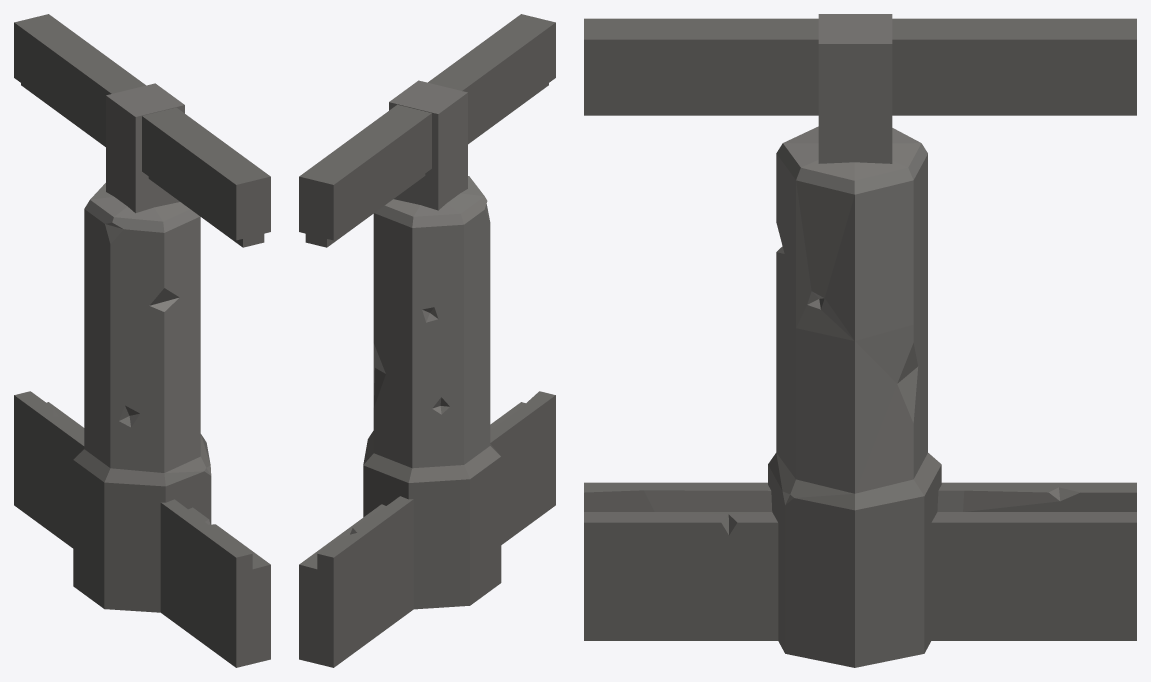
Rendered from SM_Bld_Tunnel_Straight_Wall_01.fbx.
3 views of the same model, side by side, from view 1: azimuth 30°, elevation 25°; view 2: azimuth 150°, elevation 25°; view 3: azimuth 270°, elevation 25° (orthographic). The views are drawn at different scales.
Visible parts, largest first — view 1: SM_Bld_Tunnel_Straight_Wall_01; view 2: SM_Bld_Tunnel_Straight_Wall_01; view 3: SM_Bld_Tunnel_Straight_Wall_01.
Boxes of the visible parts, x1,y1,x2,y2 form: SM_Bld_Tunnel_Straight_Wall_01: [14, 14, 270, 667]; SM_Bld_Tunnel_Straight_Wall_01: [299, 14, 555, 667]; SM_Bld_Tunnel_Straight_Wall_01: [584, 14, 1136, 667].
Size of the model in its own units: 76.56 by 300 by 250.
